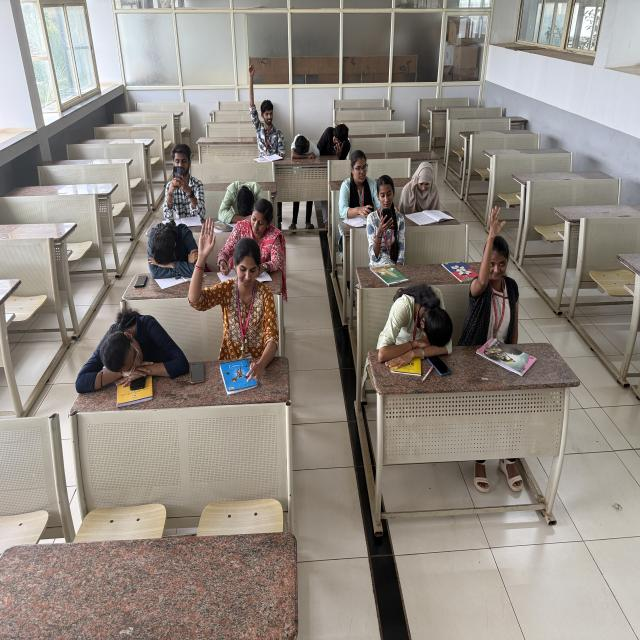Hand Rising: (454, 203, 528, 349), (186, 215, 259, 360), (237, 56, 290, 170)
Reading: (407, 156, 445, 228)
Sleeping: (369, 263, 461, 357), (74, 297, 170, 380), (122, 206, 210, 281), (215, 155, 270, 226), (286, 125, 326, 178)
Using Phone: (148, 130, 208, 226), (362, 168, 416, 270)
Writing: (216, 206, 306, 304)
